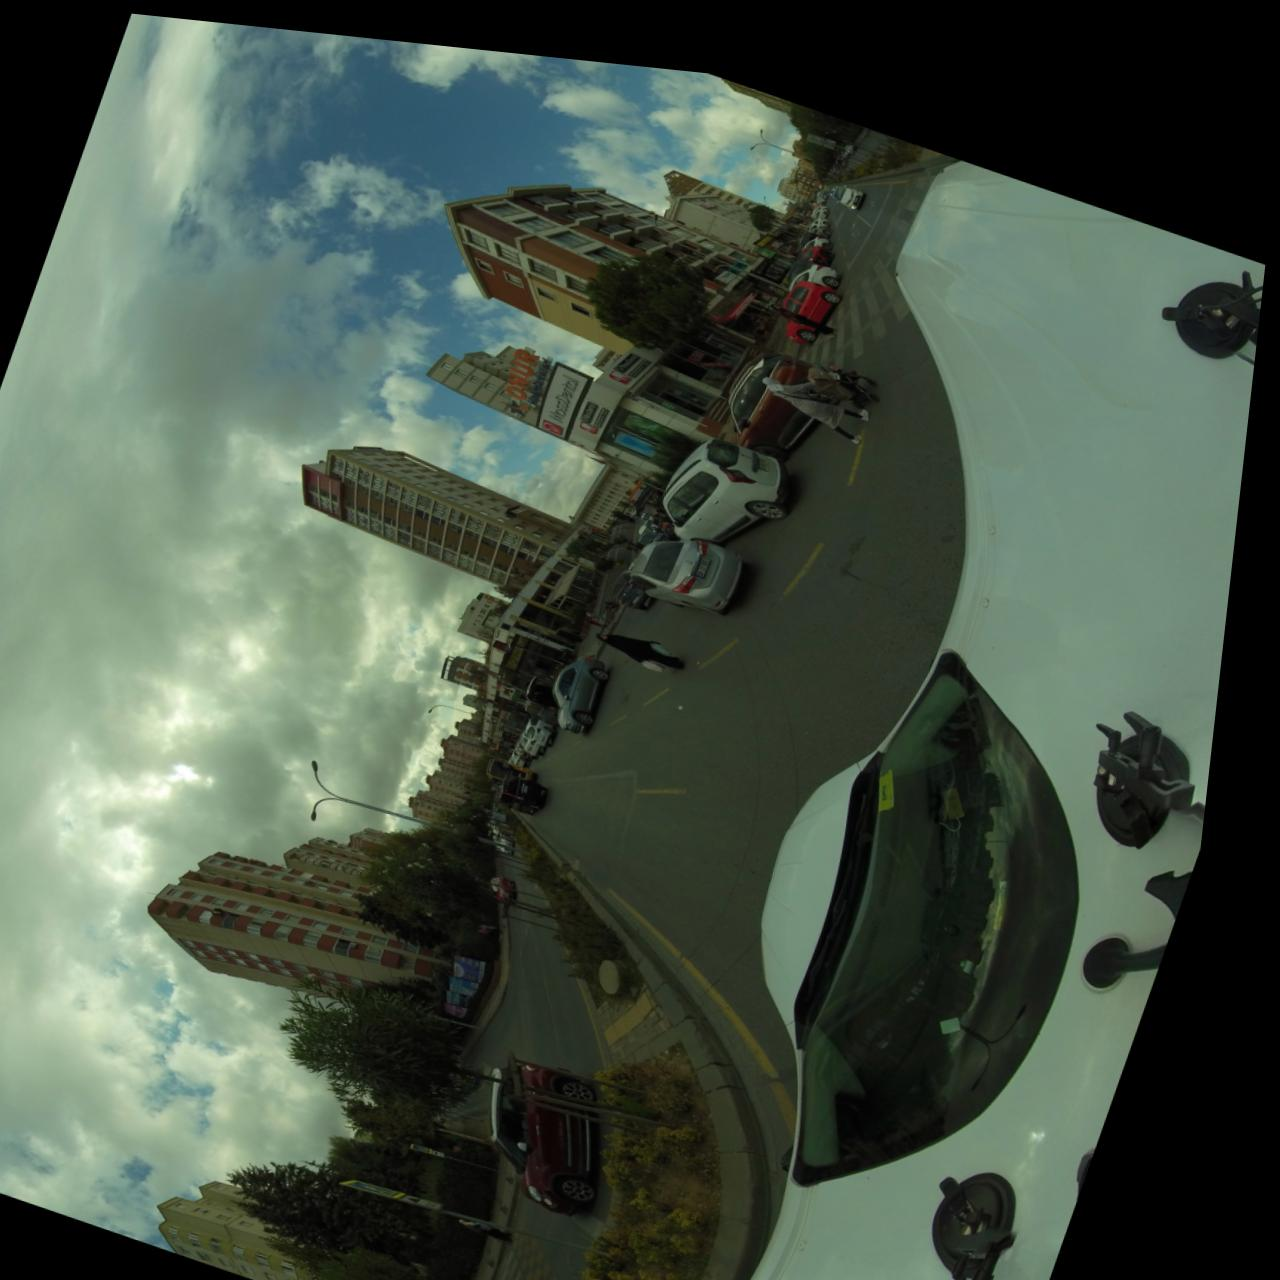SignStore: (544, 354, 599, 422), (506, 333, 561, 399), (513, 621, 545, 655), (719, 270, 750, 299), (618, 335, 649, 360), (585, 383, 610, 408), (639, 467, 658, 485), (756, 216, 777, 231), (513, 672, 531, 687), (763, 231, 779, 240), (515, 695, 524, 706)
